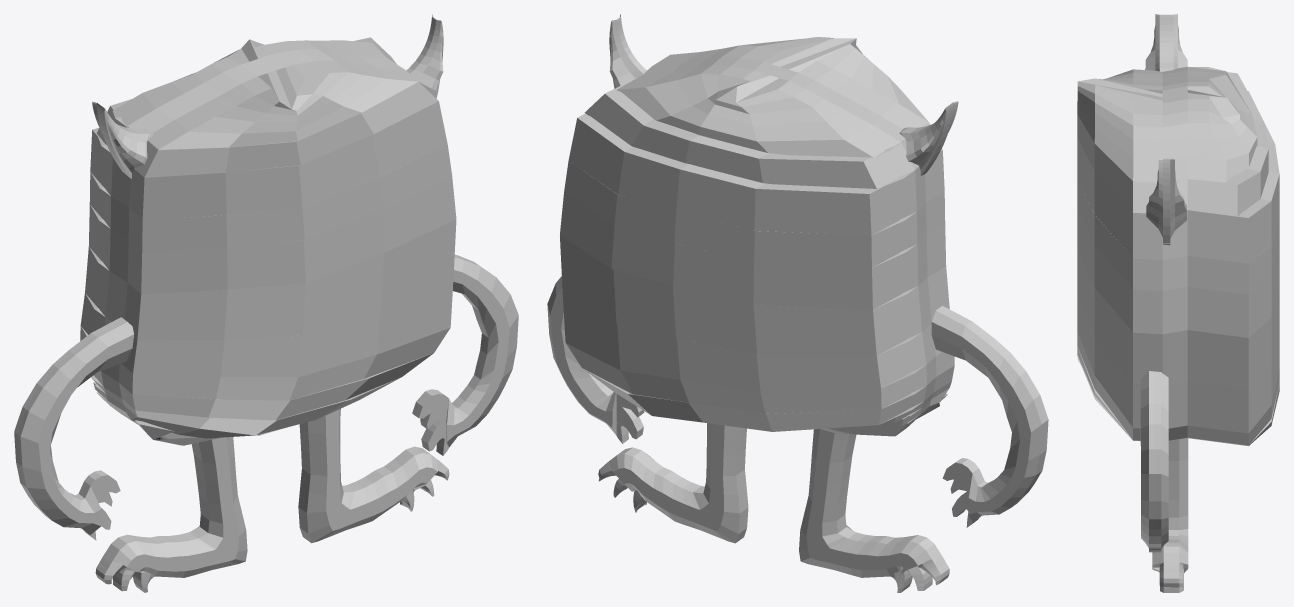
The model's file is monster1.obj.
3 views of the same model, side by side, from view 1: azimuth 30°, elevation 25°; view 2: azimuth 150°, elevation 25°; view 3: azimuth 270°, elevation 25° (orthographic). The views are drawn at different scales.
Parts seen in each view (by area): view 1: main_body.006_Plane.006, legs.005_BezierCurve.023, arms.005_BezierCurve.021, left_horn.005_BezierCurve.022, right_horn_BezierCurve; view 2: main_body.006_Plane.006, legs.005_BezierCurve.023, arms.005_BezierCurve.021, left_horn.005_BezierCurve.022, right_horn_BezierCurve; view 3: main_body.006_Plane.006, arms.005_BezierCurve.021, legs.005_BezierCurve.023, right_horn_BezierCurve, left_horn.005_BezierCurve.022.
Part boxes in pixels (box(x1,y1,x2,y2)): main_body.006_Plane.006: box(80, 37, 456, 445); legs.005_BezierCurve.023: box(95, 408, 449, 592); arms.005_BezierCurve.021: box(14, 254, 518, 540); left_horn.005_BezierCurve.022: box(92, 101, 153, 178); right_horn_BezierCurve: box(406, 14, 443, 98); main_body.006_Plane.006: box(560, 37, 954, 436); legs.005_BezierCurve.023: box(598, 423, 949, 592); arms.005_BezierCurve.021: box(547, 276, 1048, 527); left_horn.005_BezierCurve.022: box(899, 101, 958, 175); right_horn_BezierCurve: box(609, 14, 646, 88); main_body.006_Plane.006: box(1077, 66, 1279, 446); arms.005_BezierCurve.021: box(1140, 371, 1168, 552); legs.005_BezierCurve.023: box(1152, 438, 1188, 592); right_horn_BezierCurve: box(1146, 158, 1186, 245); left_horn.005_BezierCurve.022: box(1145, 14, 1187, 71).
Size of the model in its own units: 4.65 by 4.49 by 1.79.
